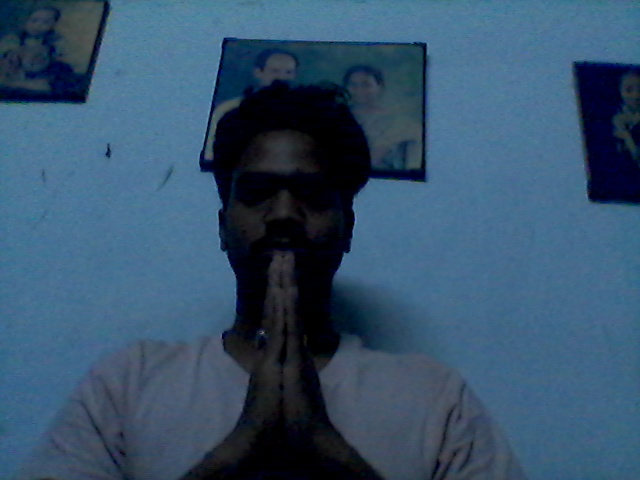Namasthe: (212, 252, 353, 477)
